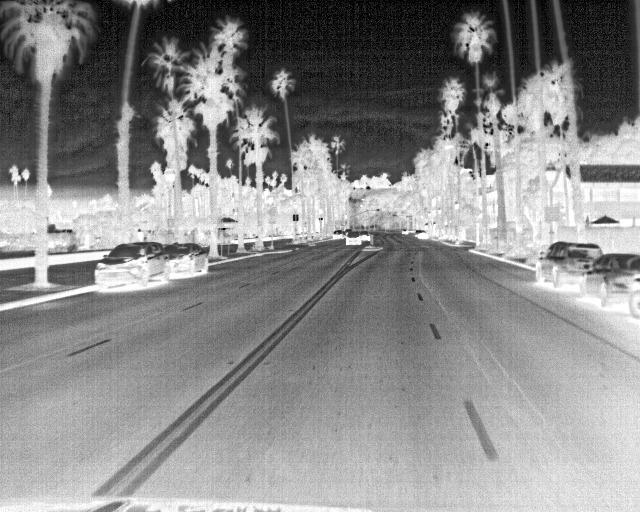car: (94, 242, 172, 291), (534, 242, 599, 293), (581, 252, 635, 306), (159, 240, 210, 278), (345, 230, 363, 247), (356, 229, 370, 243), (413, 227, 427, 240), (333, 229, 346, 241), (401, 227, 410, 237)
